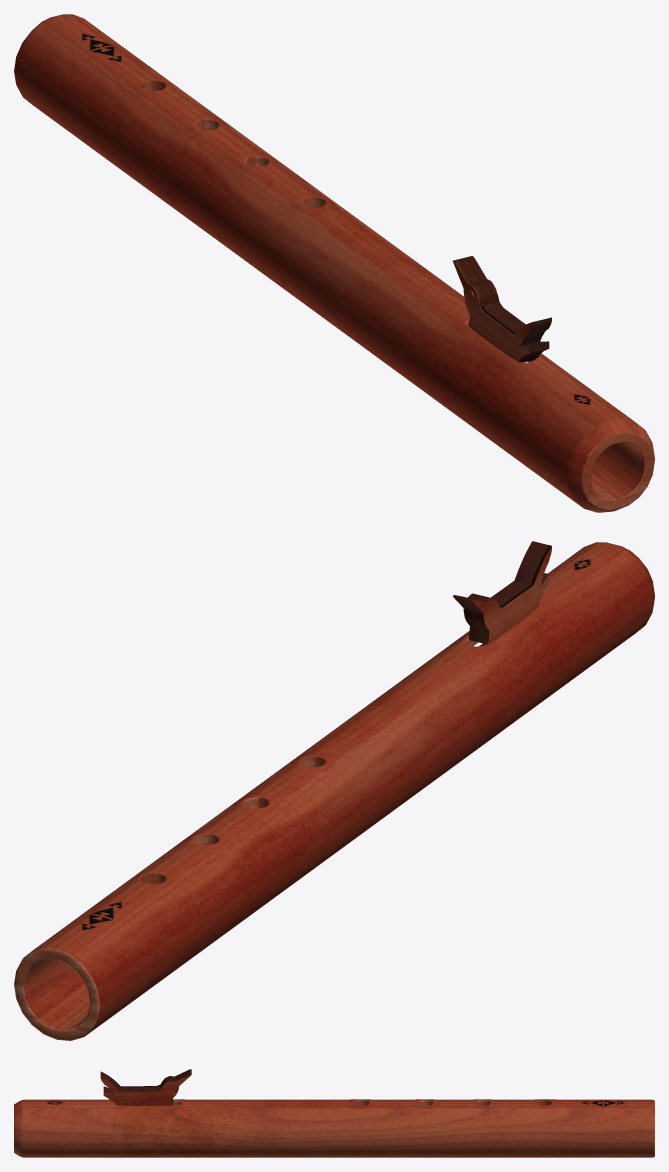
Rendered from instrument-flute.glb.
3 renders of one model, top to bottom at view 1: azimuth 30°, elevation 25°; view 2: azimuth 150°, elevation 25°; view 3: azimuth 270°, elevation 25°, orthographic. The views are drawn at different scales.
Parts seen in each view (by area): view 1: instrument_flute (×2); view 2: instrument_flute (×2); view 3: instrument_flute (×2).
Part boxes in pixels (<box>): instrument_flute (×2): <box>14,14,654,512</box>; instrument_flute (×2): <box>14,541,654,1040</box>; instrument_flute (×2): <box>14,1069,654,1157</box>.
Size of the model in its own units: 0.1434 by 0.2274 by 1.59.
Materials: 2 (2 with a texture image).
